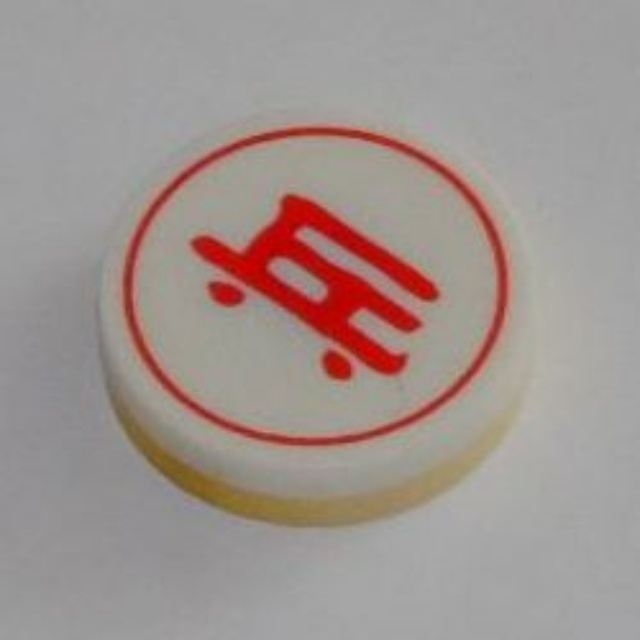red_chot: (80, 97, 540, 527)
